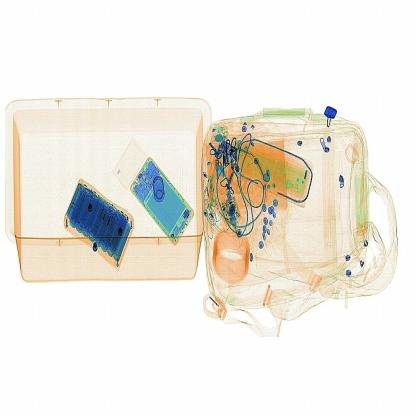pliers: (225, 161, 246, 201)
